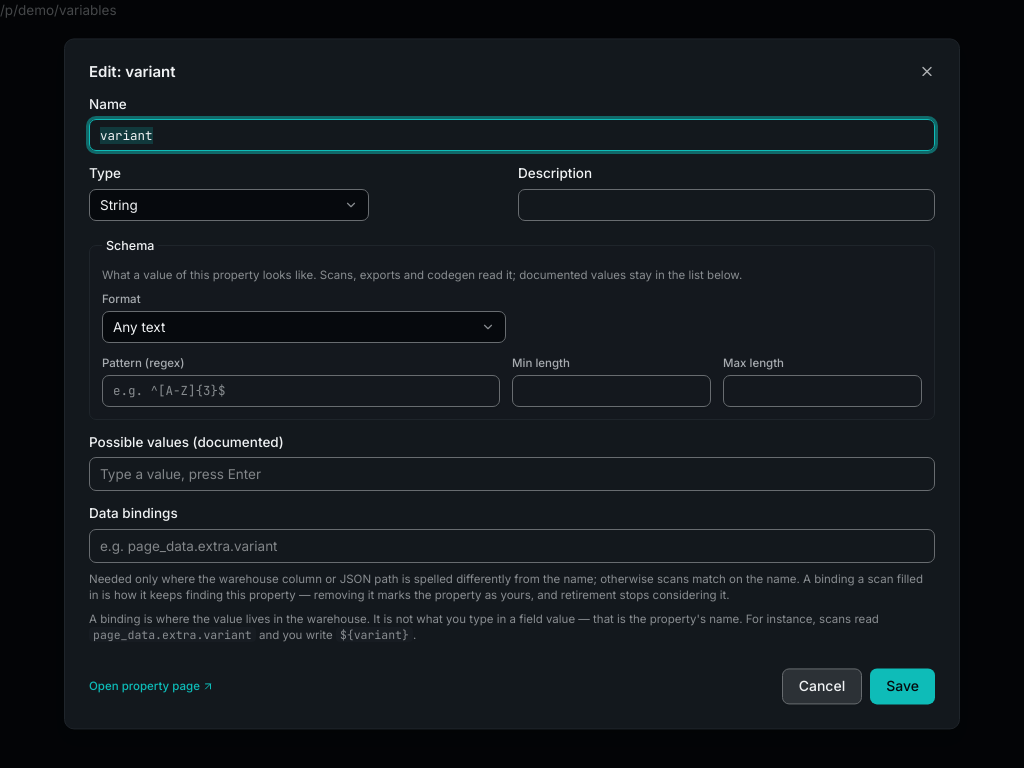
Scenario: VariablesEditDialog — unsaved definition (prelaunch) › asks before Escape drops an edited definition
This screenshot has width=1024, height=768.
In the field labelled "Description": (726, 205) [518, 189, 935, 221], type "Which arm of the test"
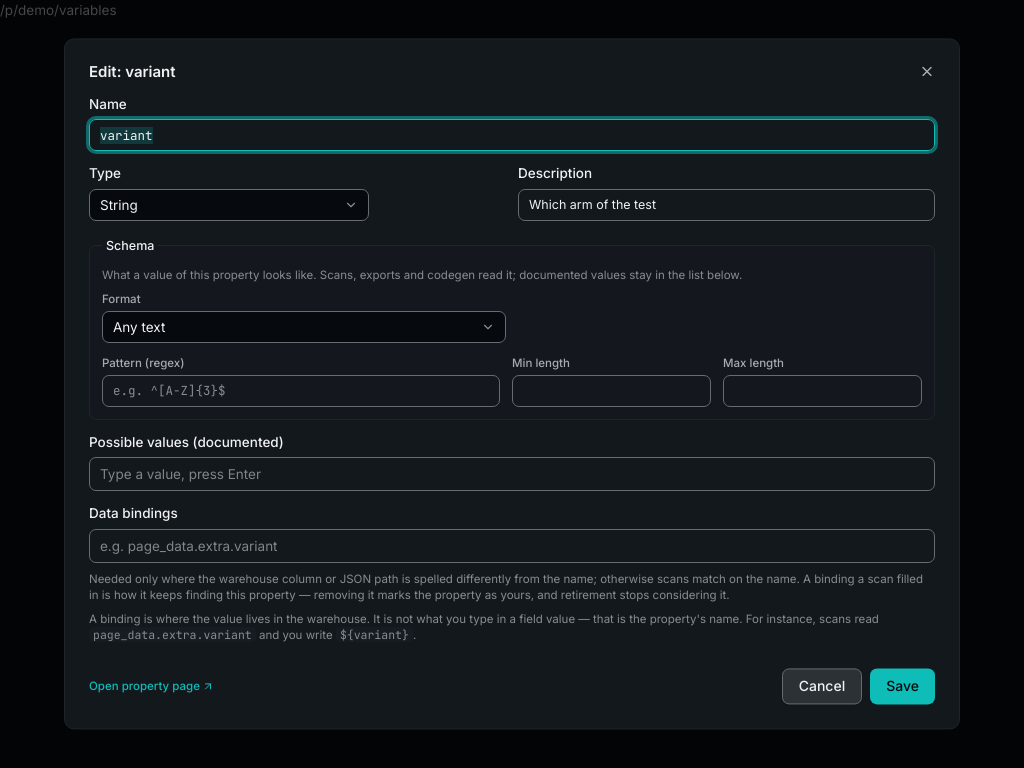
Press Escape in the dialog
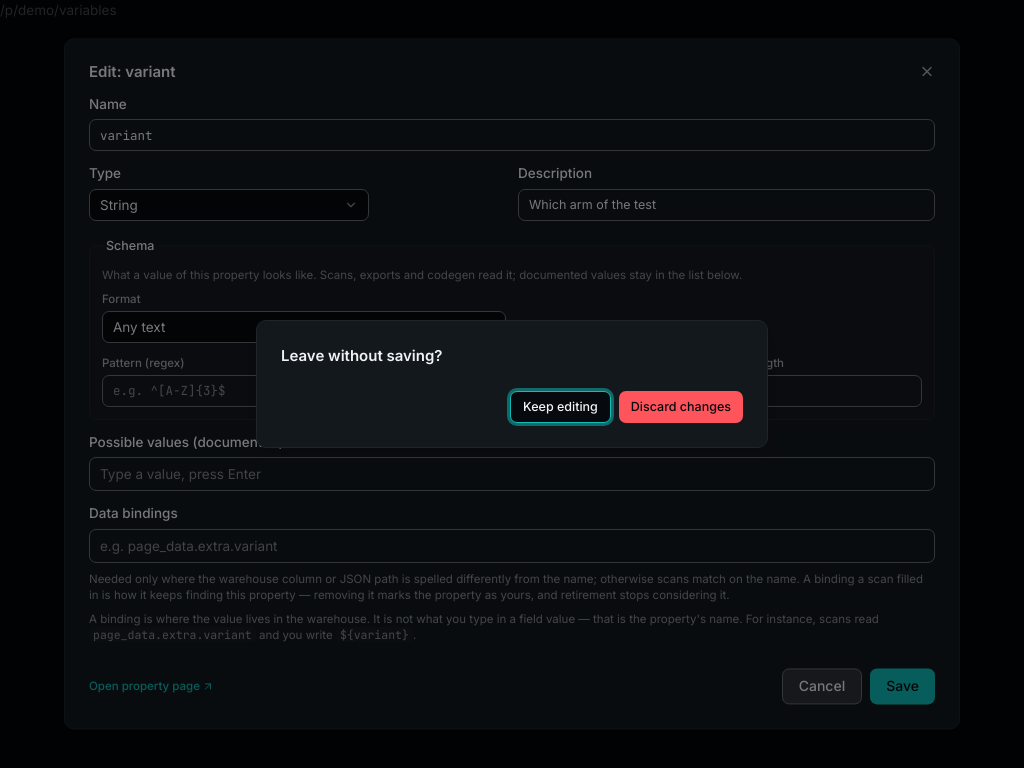
Now the dialog "Leave without saving? Keep editing Discard changes" is shown, box [256, 320, 768, 448]
Click the button "Keep editing": (560, 407) [510, 391, 611, 423]
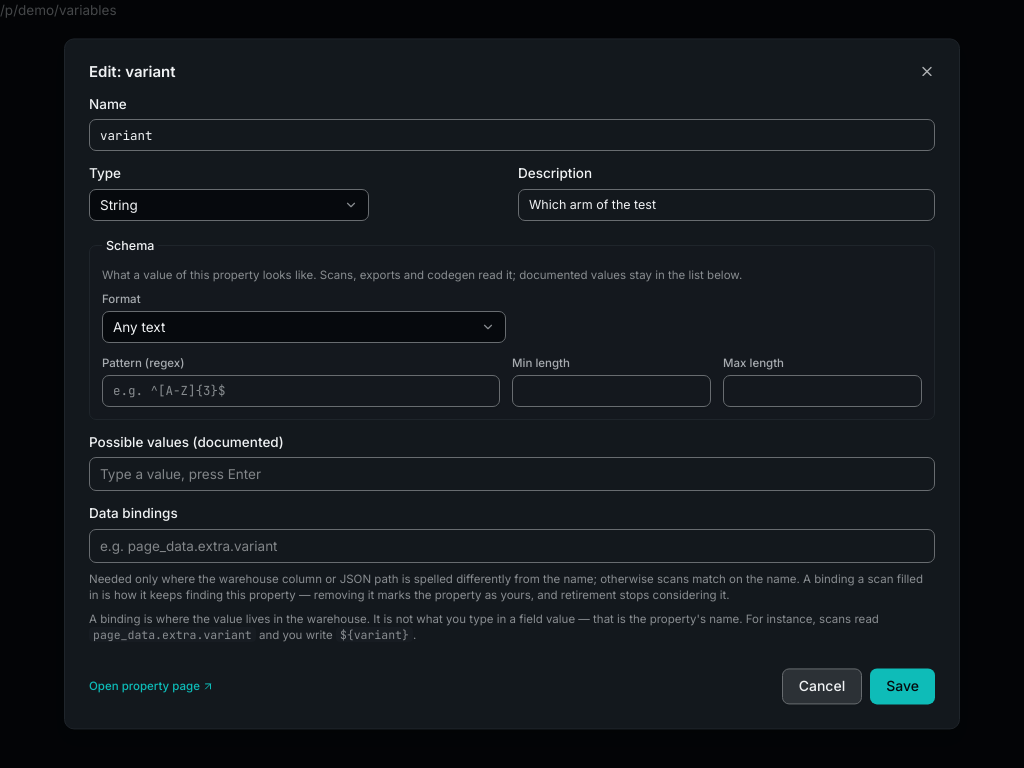
Now the dialog "Leave without saving? Keep editing Discard changes" is gone
